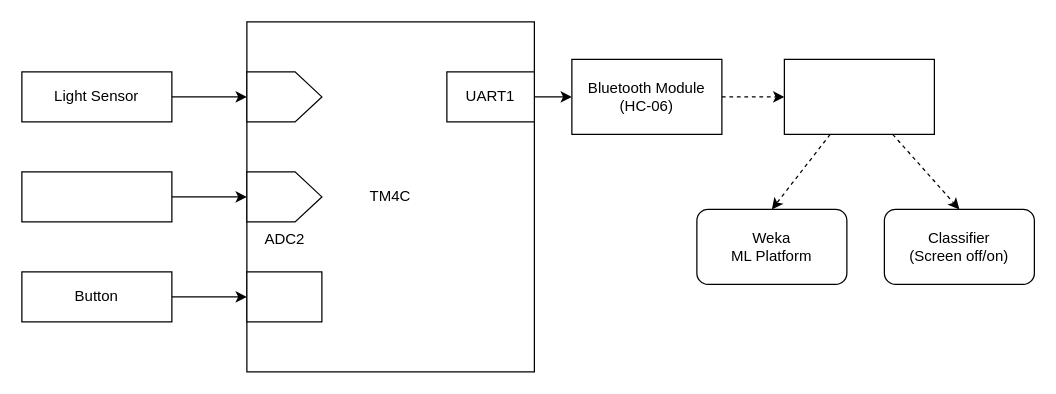
Image size: 1056x394. Some labels were removed from this diagram. The centre of each missing label's shape, as x and y in pixels:
"ADC1" belongs at [284,96].
"Bluetooth Client (PC/Phone)" belongs at [858,96].
"PF0" belongs at [284,296].
"Temp. Sensor" belongs at [96,196].
